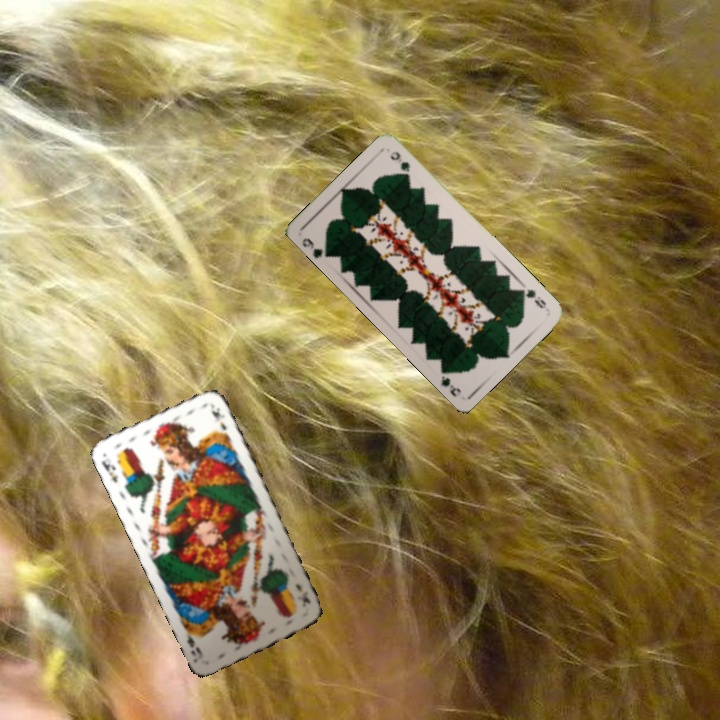EK: (97, 457, 121, 485), (292, 579, 313, 609)
G9: (298, 234, 334, 261), (514, 285, 549, 311)
